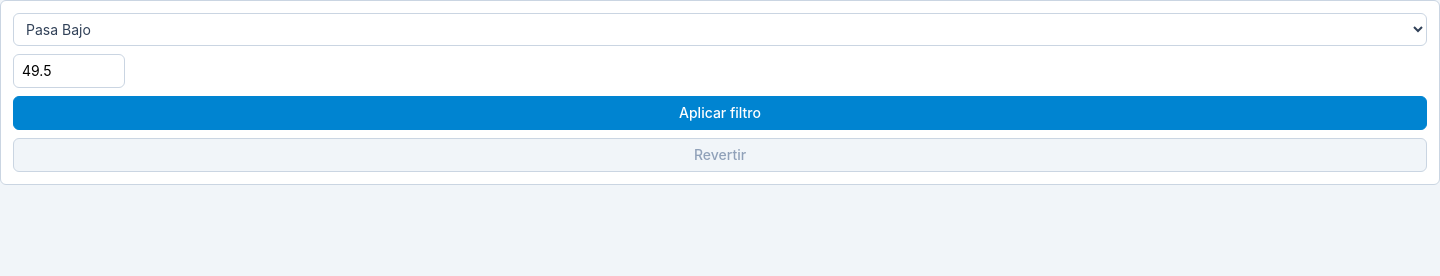
FilterPanel › AC-05: seleccionar "Savitzky-Golay" muestra los campos Ventana y Grado de Polinomio vacíos
Select "Savitzky-Golay" in the dropdown named "Tipo de filtro" at x=720, y=30, box 13,13 -> 1427,46
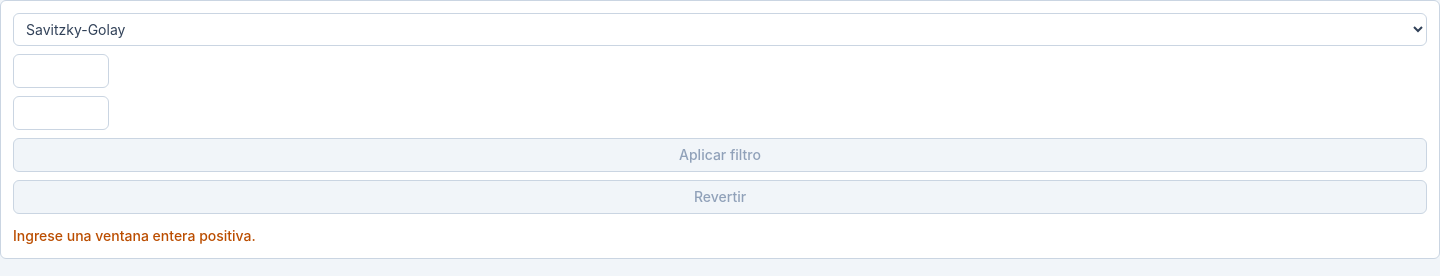
Expected: the number field named "Ventana" is not empty, 13,54 -> 109,88
Expected: the number field named "Grado de polinomio" is not empty, 13,96 -> 109,130
Expected: the button labelled "Aplicar filtro" is disabled, 13,138 -> 1427,172
